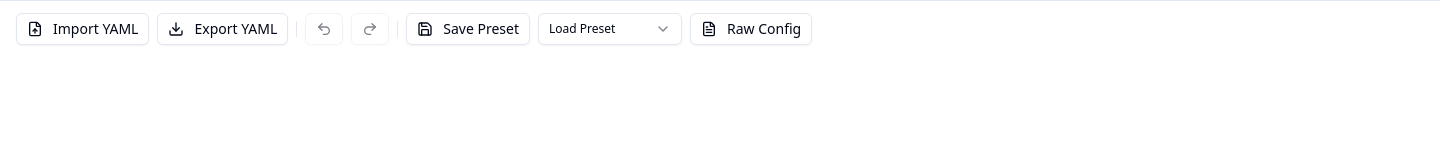
it: ModelPanelActions / LoadPresetMenu (Issue #369) › closes the menu after a preset is selected
Step 1. Click the button "Load Preset" → (610, 29), box [538,13,682,45]
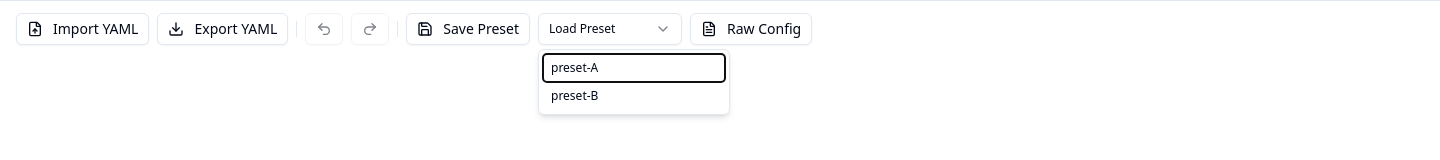
Check: the menu item "preset-A" is shown, box [543,54,725,82]
Step 2. Click the menu item "preset-B" → (634, 96), box [543,82,725,110]
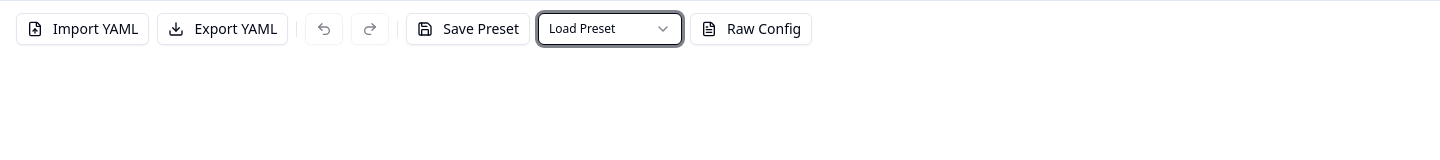
Check: the menu item is gone
